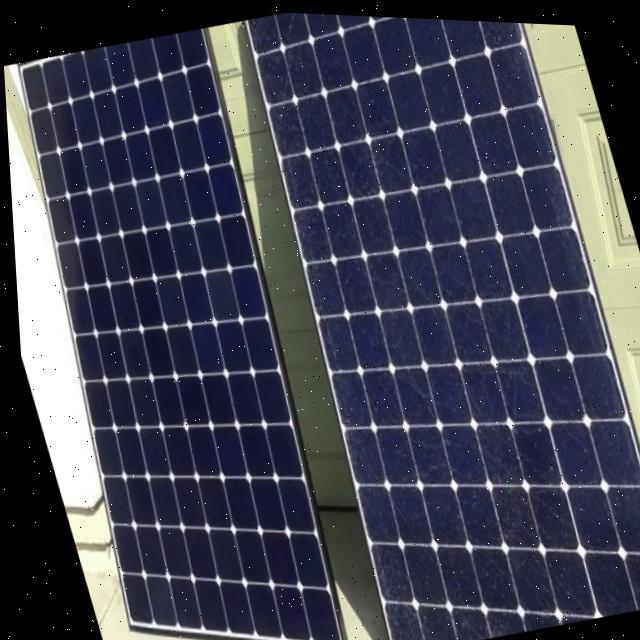Normal Solar Panel: (1, 19, 368, 640)
